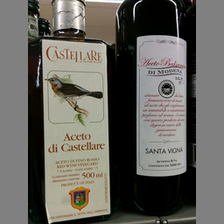vinegar: (30, 1, 116, 223), (116, 1, 192, 217)
